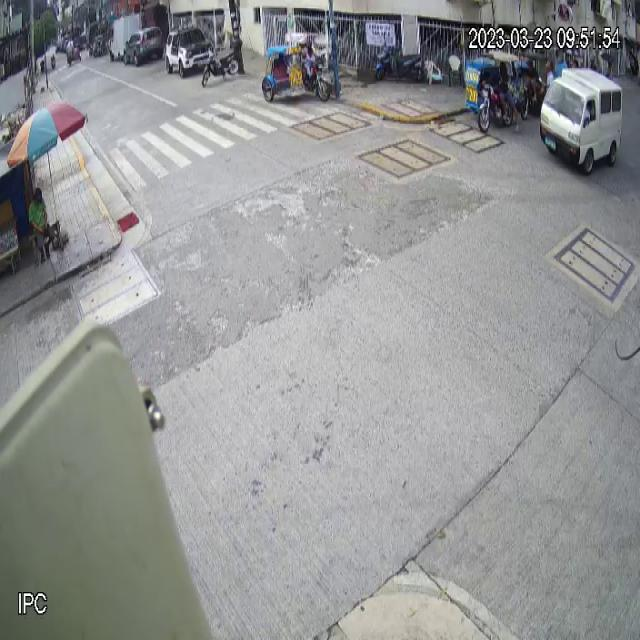Tricycle: (260, 30, 327, 100), (465, 50, 519, 133)
Van: (539, 67, 623, 173)
